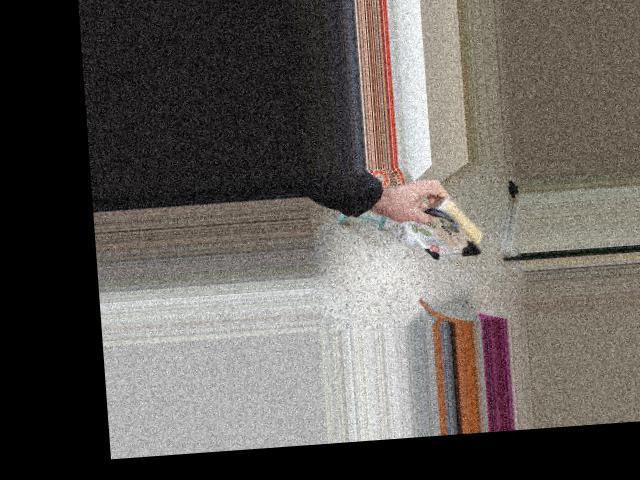cheese: (405, 168, 505, 285)
